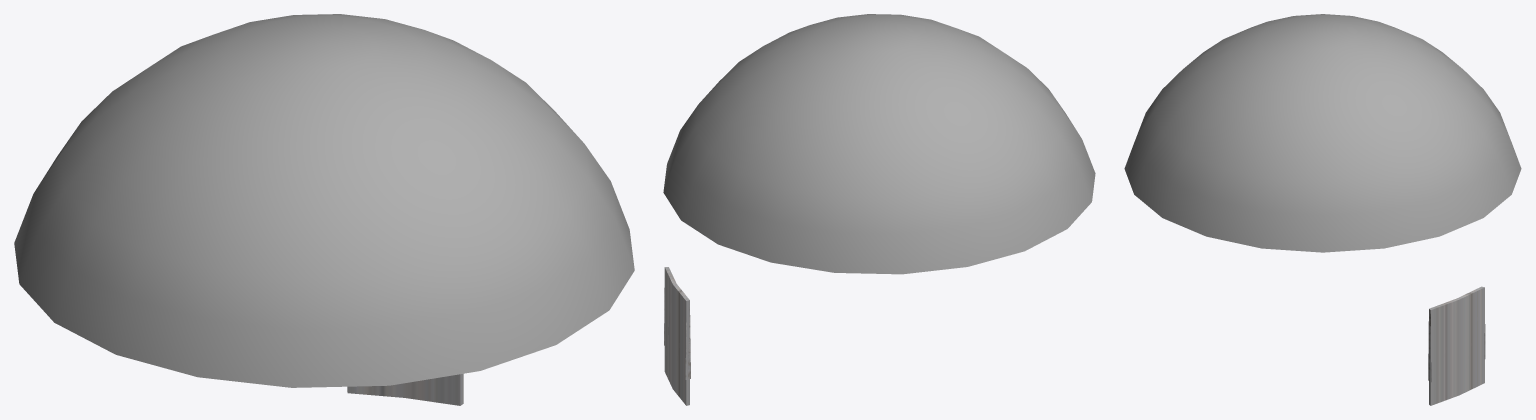
File: Light_Bloacker.fbx
The picture shows the model from 3 angles, left to right: view 1: azimuth 30°, elevation 25°; view 2: azimuth 150°, elevation 25°; view 3: azimuth 270°, elevation 25°; orthographic projection. The views are drawn at different scales.
Parts seen in each view (by area): view 1: Chimney_Light_block; view 2: Chimney_Light_block; view 3: Chimney_Light_block.
Part boxes in pixels (left/top/right/bottom): Chimney_Light_block: left=14, top=14, right=634, bottom=405; Chimney_Light_block: left=663, top=14, right=1095, bottom=405; Chimney_Light_block: left=1124, top=14, right=1521, bottom=405.
Bounding box in the file's own units: 97.98 × 82.5 × 97.98.
